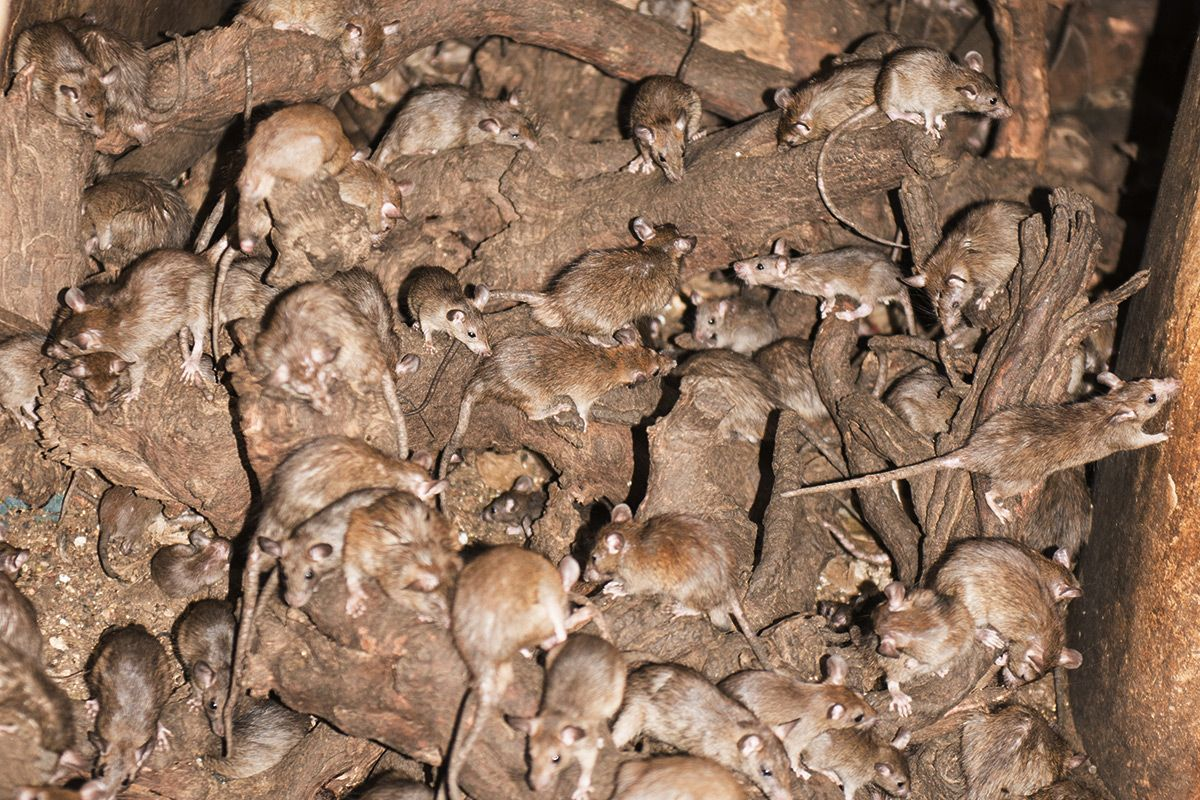rat: (909, 364, 1200, 519), (571, 496, 800, 681), (33, 232, 228, 414), (599, 648, 798, 800), (434, 534, 585, 730), (212, 93, 365, 273), (499, 205, 703, 337), (469, 330, 691, 447), (721, 218, 917, 348), (501, 632, 641, 800), (352, 70, 567, 178), (865, 36, 1022, 170), (896, 193, 1040, 339), (718, 645, 886, 769), (75, 616, 188, 798), (591, 56, 729, 202), (5, 17, 130, 149), (386, 247, 508, 377), (164, 586, 252, 758), (752, 59, 899, 161), (256, 503, 366, 620)
